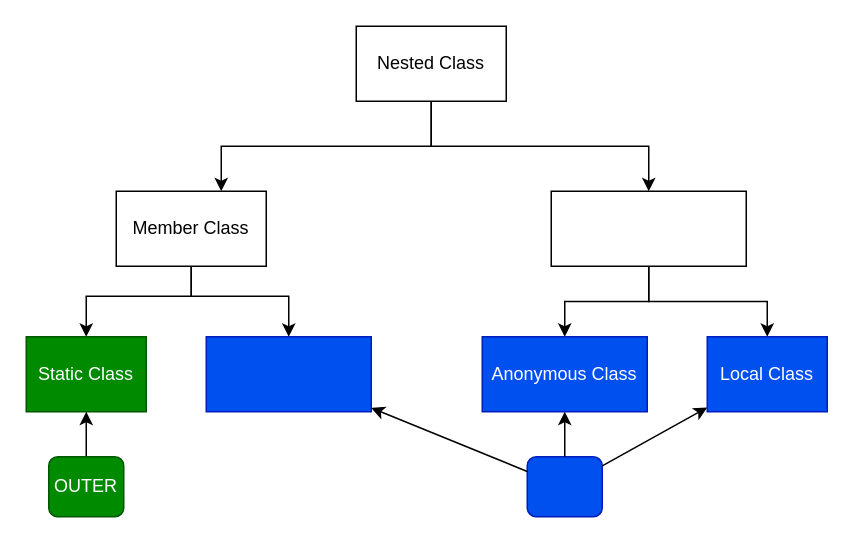
This 854x543 diagram has some shape labels left out. Here are the shapes that lost their labels. From the top down, the centre of each, then its label:
the point at 648,228: non-Member Class
the point at 288,373: non-Static Class
the point at 564,486: INNER
